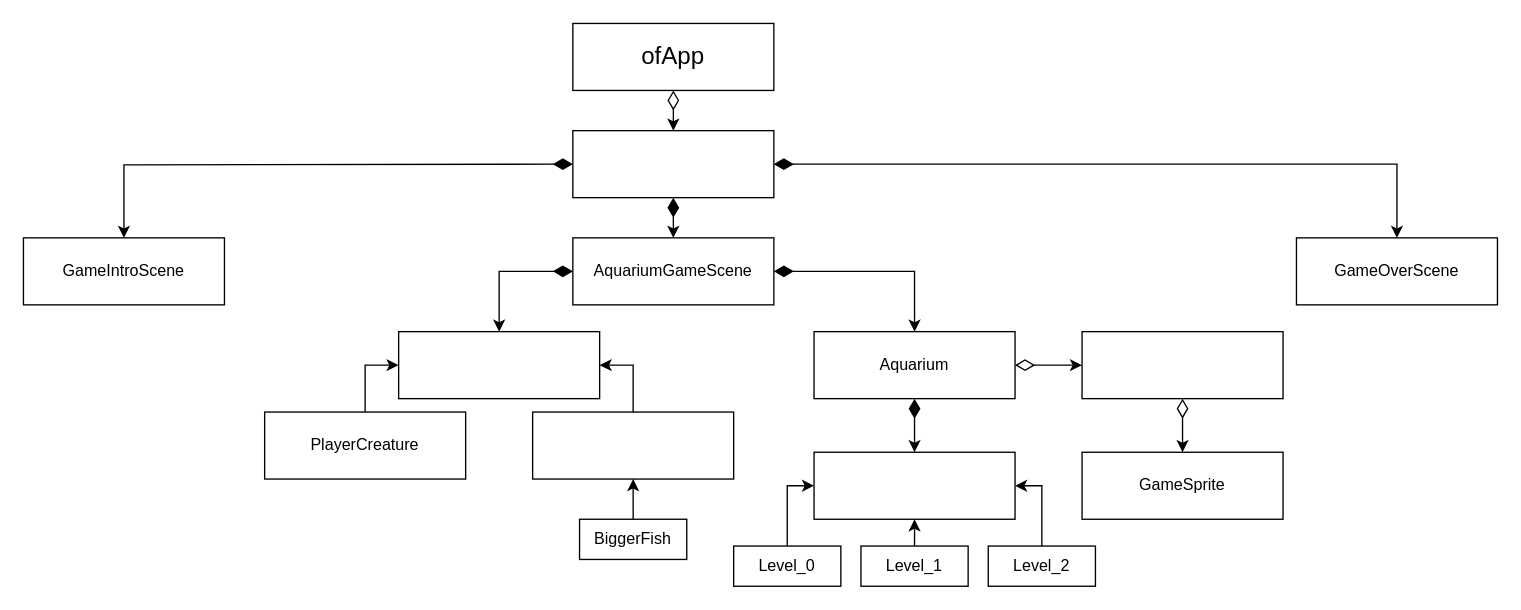
Some shapes in this 1521 by 610 pixel diagram are drawn without their labels. The centre of each missing label's shape, as x and y in pixels:
AquariumLevel: the point at 914,485
AquariumSpriteManager: the point at 1182,364
Creature: the point at 498,364
GameSceneManager: the point at 673,163
NPCCreature: the point at 632,445
